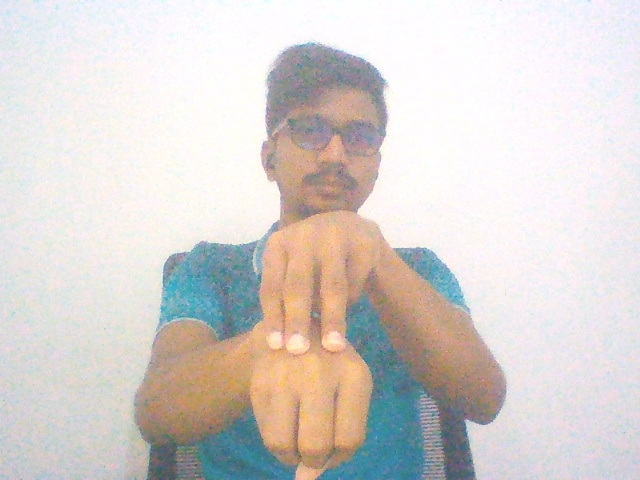papaya: (234, 193, 399, 480)
